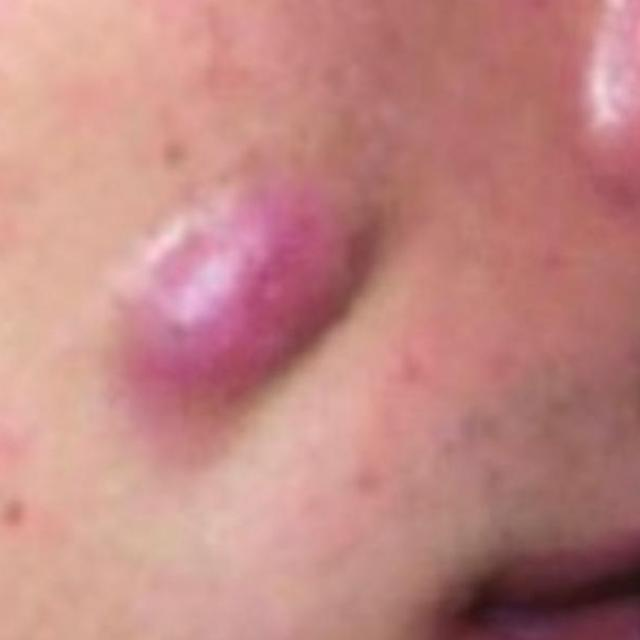nodule: (88, 177, 394, 430)
